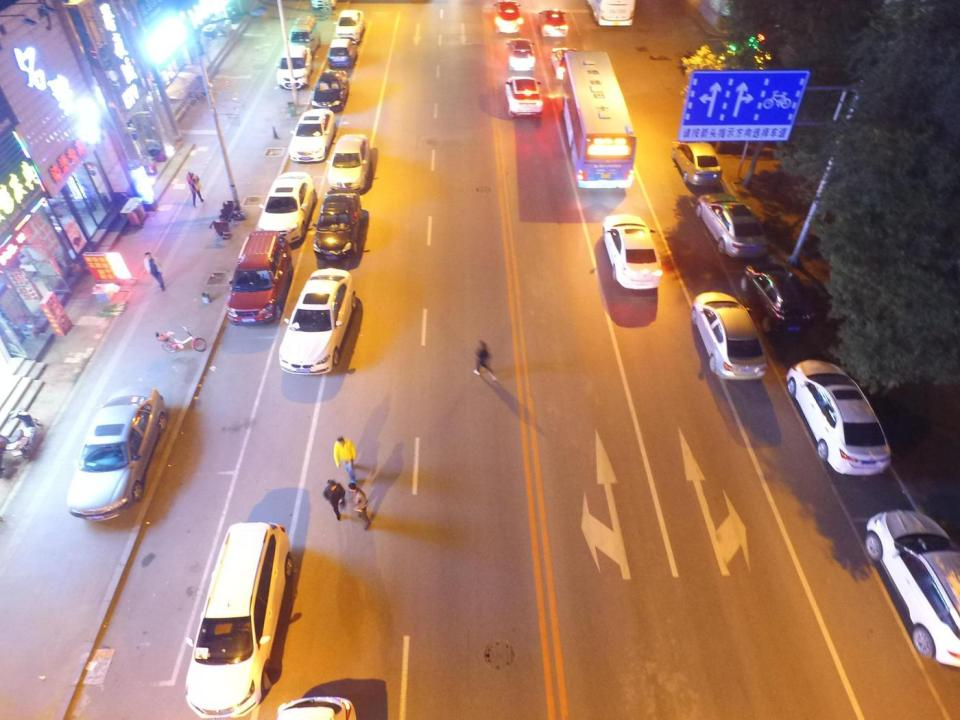bus: (555, 51, 637, 190), (589, 0, 637, 25)
car: (186, 523, 290, 715), (866, 508, 960, 670), (785, 357, 892, 479), (278, 267, 358, 375), (691, 289, 768, 382), (227, 230, 286, 325), (745, 259, 818, 334), (698, 192, 770, 258), (256, 169, 315, 245), (603, 216, 661, 289), (314, 189, 361, 258), (330, 134, 373, 194), (673, 140, 721, 188), (290, 109, 333, 162), (503, 76, 544, 116), (312, 69, 350, 111), (278, 46, 311, 90), (504, 40, 538, 73), (537, 8, 569, 39), (492, 1, 522, 33), (330, 38, 360, 68), (337, 10, 368, 39), (551, 47, 578, 77)
van: (290, 15, 320, 55)
